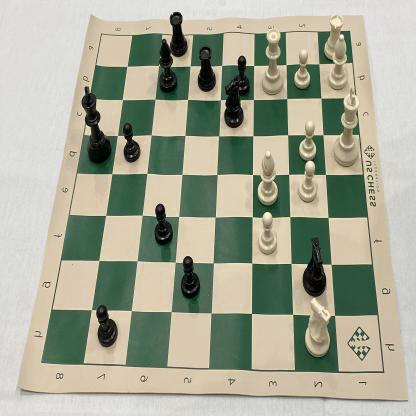black-bishop: (153, 35, 178, 98)
black-king: (79, 81, 114, 170)
black-knight: (297, 232, 334, 300), (220, 76, 246, 130)
black-pawn: (94, 295, 122, 351), (176, 253, 203, 304), (152, 200, 176, 251), (231, 51, 254, 97), (121, 119, 142, 166)
black-rook: (192, 42, 218, 96), (166, 4, 190, 59)
white-bishop: (325, 33, 352, 95), (255, 146, 280, 208)
white-king: (330, 86, 362, 171)
white-knight: (302, 294, 336, 362)
white-pawn: (293, 158, 320, 206), (291, 45, 313, 94), (257, 210, 279, 259), (298, 117, 319, 161)
white-queen: (258, 19, 288, 100)
white-rook: (321, 12, 347, 64)
